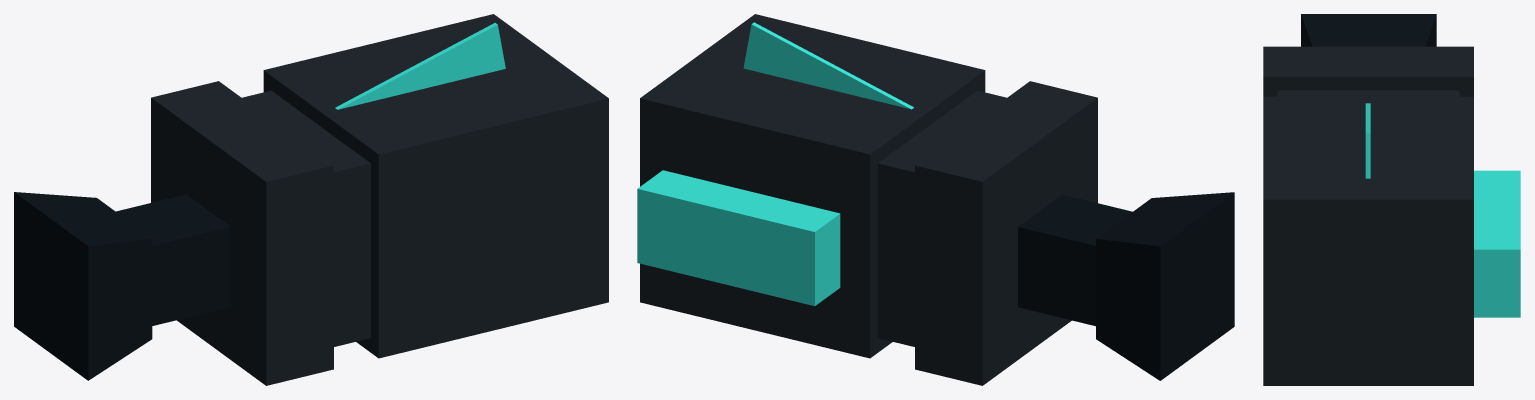
File: GravityGun.FBX
3 views of the same model, side by side, from view 1: azimuth 30°, elevation 25°; view 2: azimuth 150°, elevation 25°; view 3: azimuth 270°, elevation 25° (orthographic). The views are drawn at different scales.
Parts seen in each view (by area): view 1: Box004; view 2: Box004; view 3: Box004.
Boxes of the visible parts, left/top/right/bottom form: Box004: left=14, top=14, right=608, bottom=385; Box004: left=637, top=14, right=1234, bottom=385; Box004: left=1263, top=14, right=1520, bottom=385.
Bounding box in the file's own units: 33.7 × 16.11 × 16.42.
